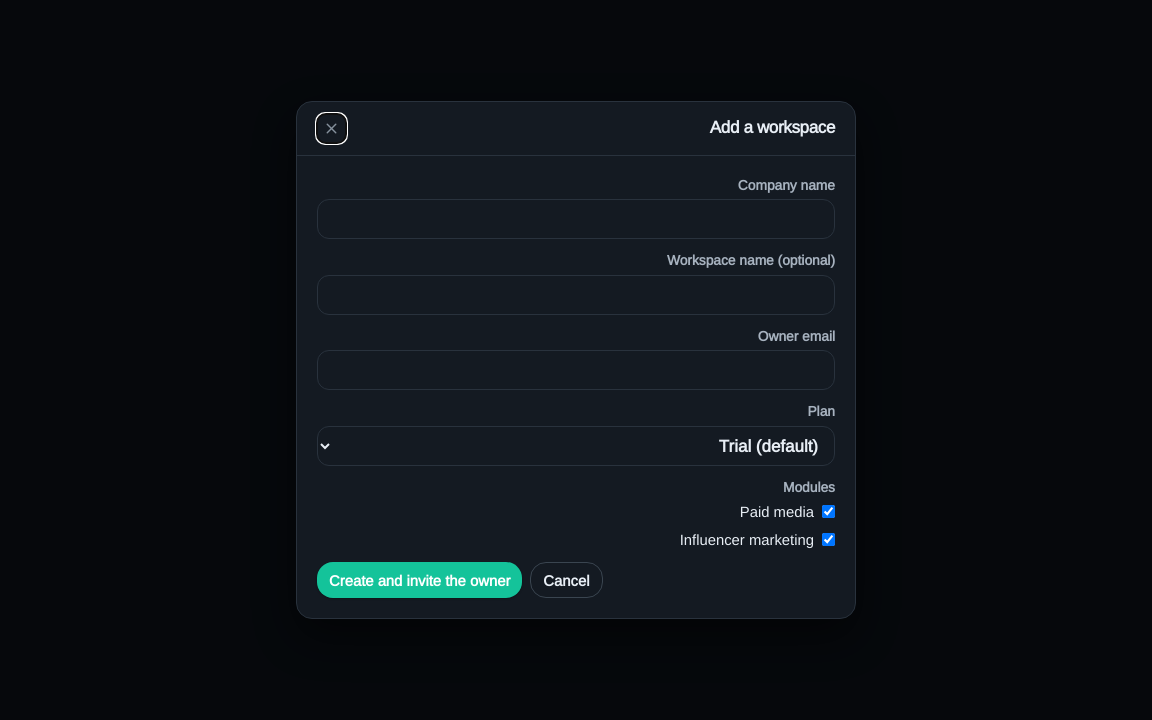
Test case: CreateWorkspaceDialog › creates the workspace and shows the owner link when mail was not confirmed
Type "Acme" into the field with test id "cw-company". click: (576, 219)
box: [317,199,835,239]
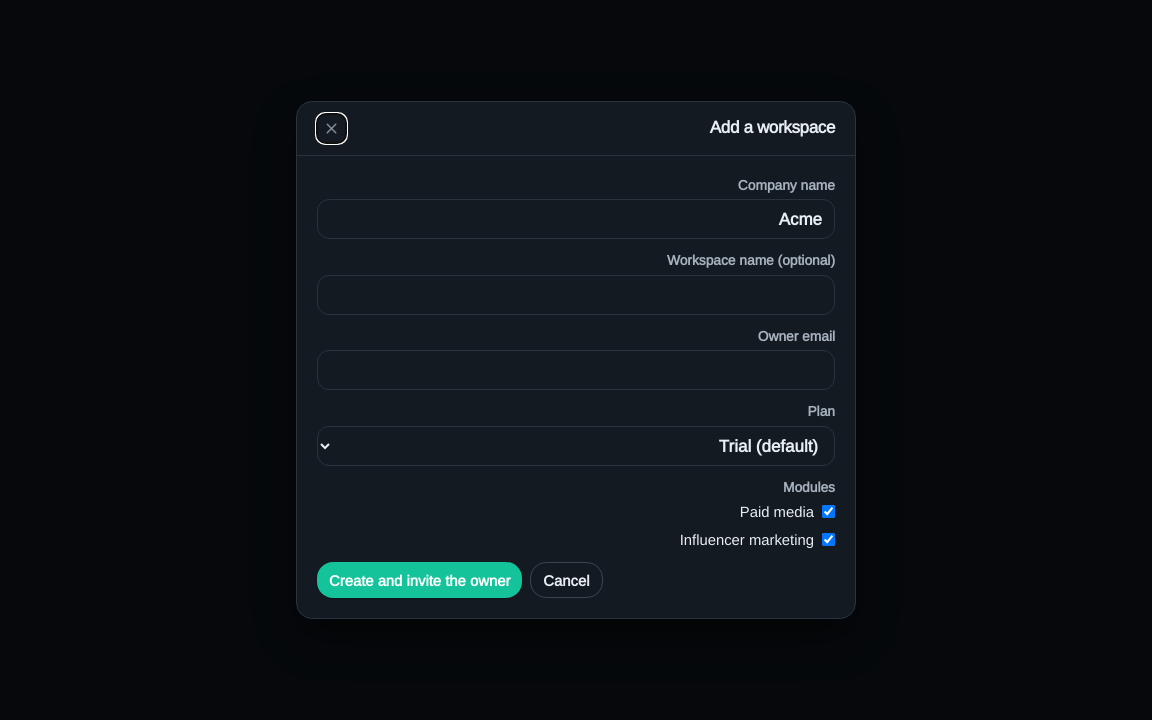
Type "owner@acme.test" into the field with test id "cw-email". click: (576, 370)
box: [317,350,835,390]
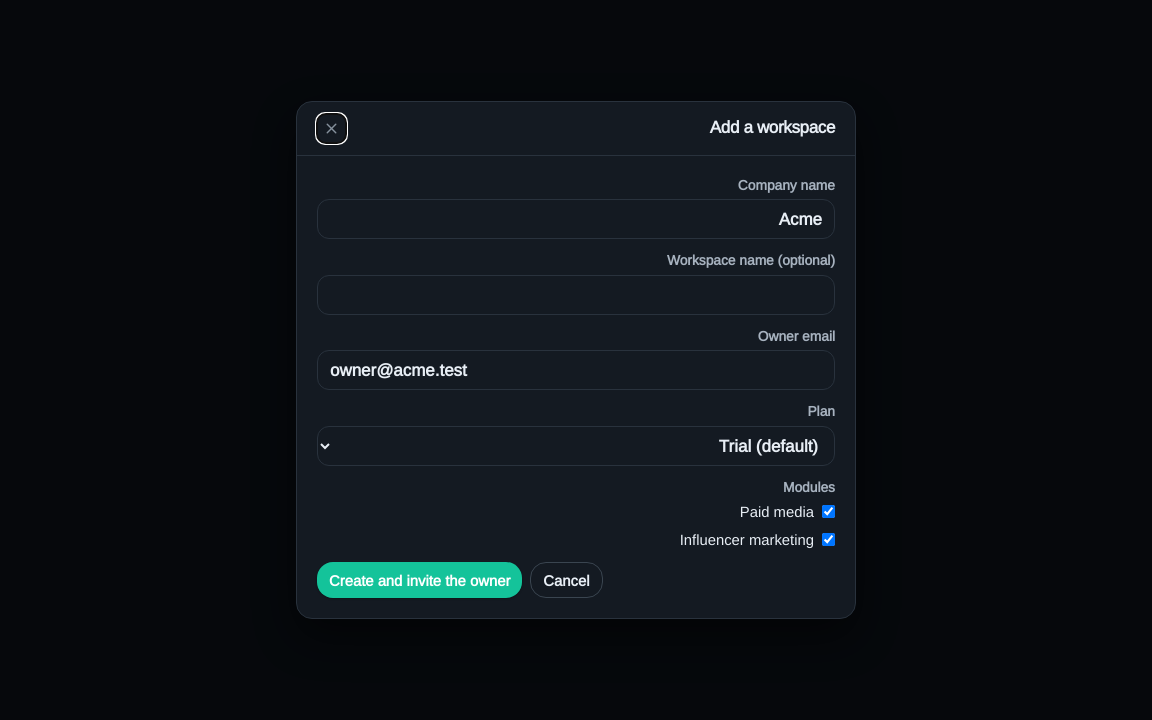
Click the checkbox with test id "cw-module-influencer_marketing". click: (828, 540)
box: [822,533,835,546]
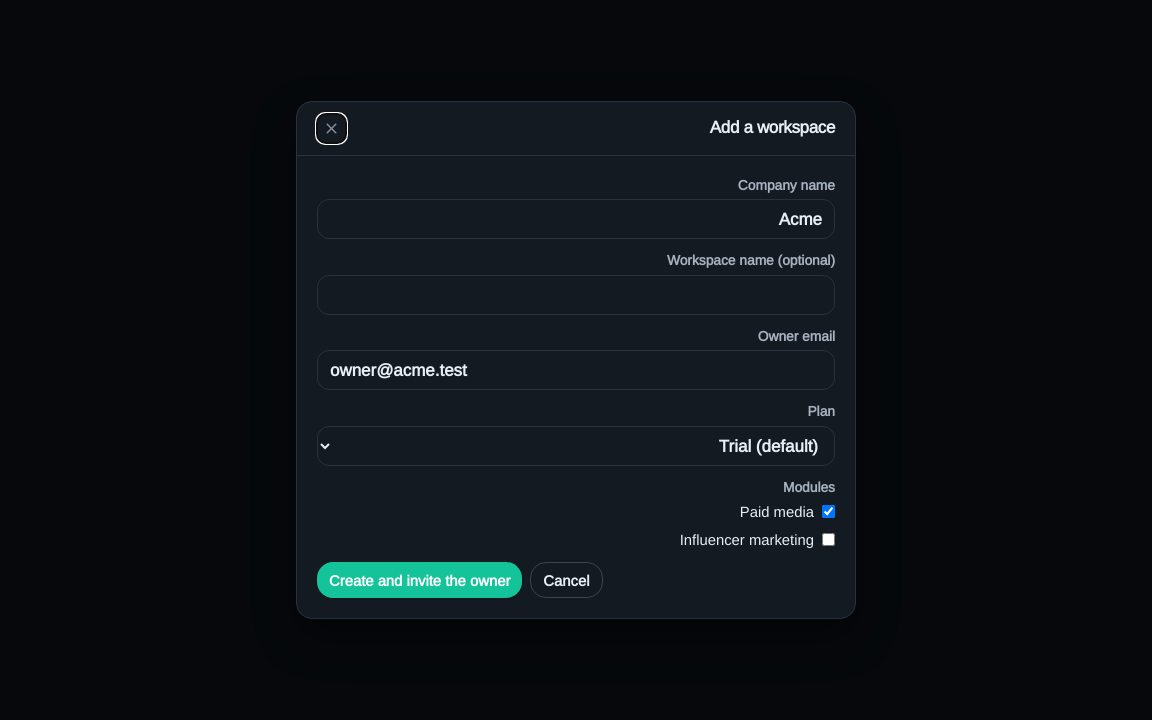
Click the button with test id "cw-submit". click: (420, 580)
box: [317,562,522,598]
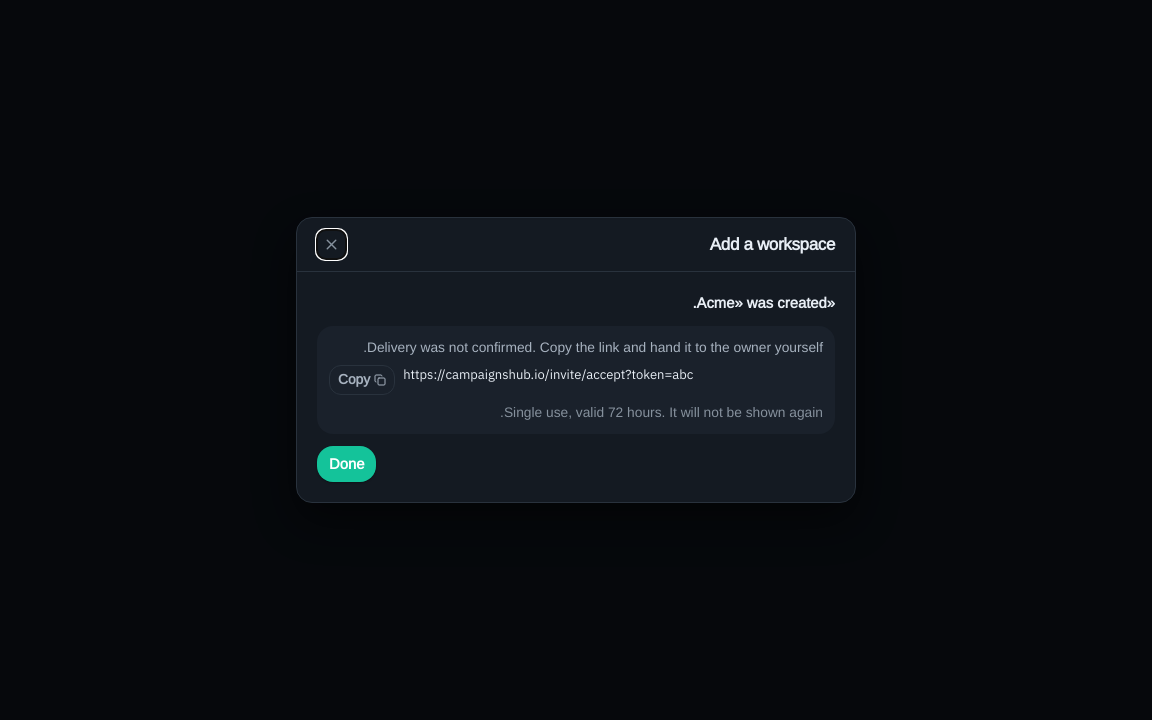
Now the text with test id "owner-invitation-link" shows "/invite/accept?token=abc", box [403,365,693,384]
Now the element with test id "owner-invitation" shows "hand it to the owner yourself", box [363,339,823,355]
